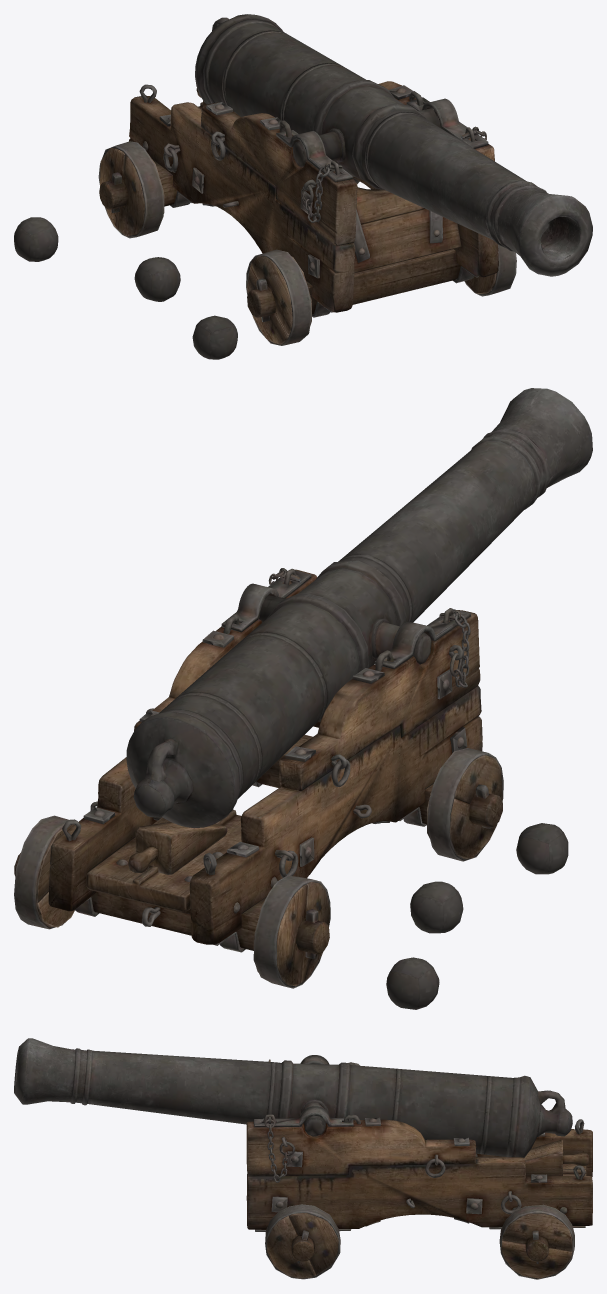
Rendered from cannon_01.glb.
3 views of the same model, one above another, from view 1: azimuth 30°, elevation 25°; view 2: azimuth 150°, elevation 25°; view 3: azimuth 270°, elevation 25° (orthographic). The views are drawn at different scales.
Visible parts, largest first — view 1: cannon_01_frame, cannon_01_barrel, cannon_01_wheel_02, cannon_01_wheel_01, cannon_01_ball_02, cannon_01_ball_03, cannon_01_ball_01, cannon_01_wheel_03; view 2: cannon_01_frame, cannon_01_barrel, cannon_01_wheel_01, cannon_01_wheel_02, cannon_01_wheel_04, cannon_01_pusherblock, cannon_01_ball_02, cannon_01_ball_03, cannon_01_ball_01; view 3: cannon_01_barrel, cannon_01_frame, cannon_01_wheel_04, cannon_01_wheel_03, cannon_01_pusherblock.
Boxes of the visible parts, x1,y1,x2,y2 form: cannon_01_frame: (99,81,498,322); cannon_01_barrel: (195,14,592,276); cannon_01_wheel_02: (98,141,164,238); cannon_01_wheel_01: (246,249,311,345); cannon_01_ball_02: (134,257,180,301); cannon_01_ball_03: (14,217,58,261); cannon_01_ball_01: (192,315,237,359); cannon_01_wheel_03: (464,244,516,296); cannon_01_frame: (14,568,502,958); cannon_01_barrel: (126,388,592,828); cannon_01_wheel_01: (427,748,503,861); cannon_01_wheel_02: (253,875,330,988); cannon_01_wheel_04: (14,815,74,929); cannon_01_pusherblock: (128,822,227,874); cannon_01_ball_02: (410,881,463,933); cannon_01_ball_03: (386,957,439,1009); cannon_01_ball_01: (516,823,568,874); cannon_01_barrel: (14,1038,572,1157); cannon_01_frame: (246,1055,592,1263); cannon_01_wheel_04: (499,1204,574,1279); cannon_01_wheel_03: (265,1204,340,1279); cannon_01_pusherblock: (500,1140,588,1176).
Size of the model in its own units: 1.27 by 0.8588 by 2.3.
1 material, 1 textured.
